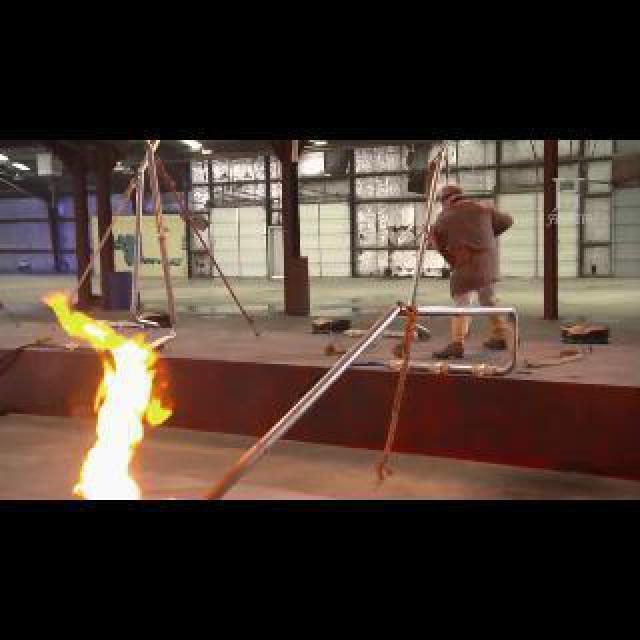Fire: (44, 282, 172, 498)
